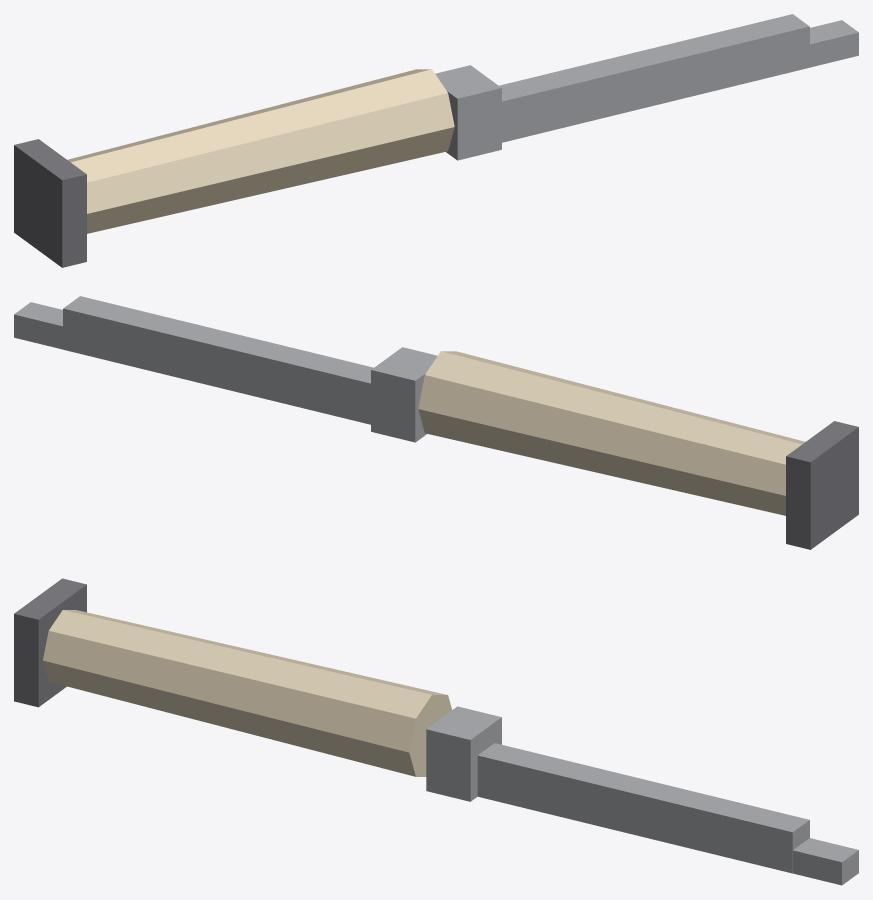
Rendered from prop-mortise-chisel.fbx.
3 views of the same model, one above another, from view 1: azimuth 30°, elevation 25°; view 2: azimuth 150°, elevation 25°; view 3: azimuth 330°, elevation 25° (orthographic).
Visible parts, largest first — view 1: prop-mortise-chisel; view 2: prop-mortise-chisel; view 3: prop-mortise-chisel.
Boxes of the visible parts, x1,y1,x2,y2 form: prop-mortise-chisel: (14, 14, 858, 267); prop-mortise-chisel: (14, 296, 858, 549); prop-mortise-chisel: (14, 578, 858, 885).
Bounding box in the file's own units: 33 × 3.4 × 3.4.
